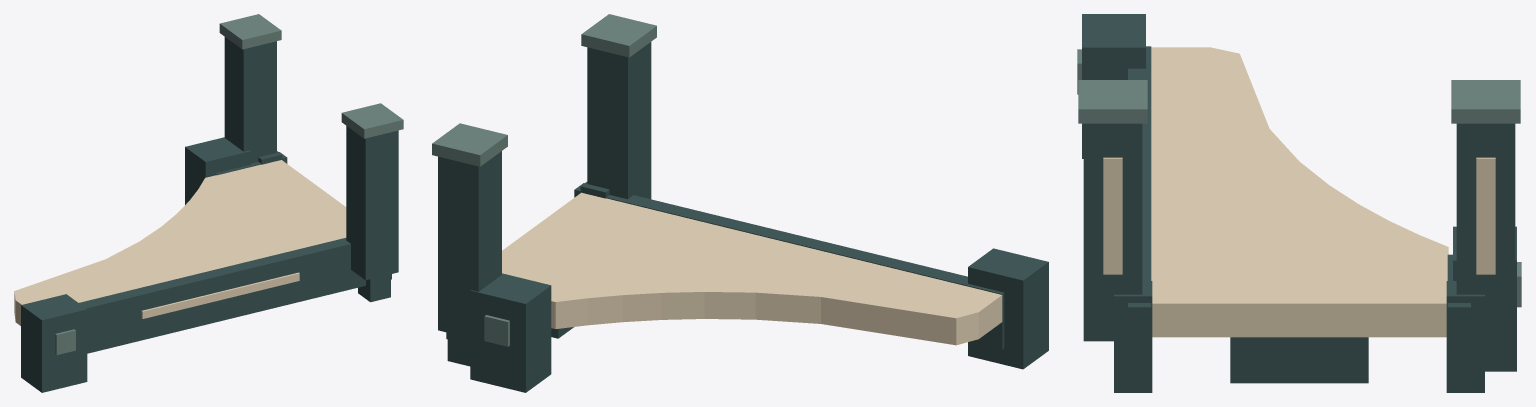
The model's file is Pier_Angled_65_Switch_lab2.glb.
3 renders of one model, left to right at view 1: azimuth 30°, elevation 25°; view 2: azimuth 150°, elevation 25°; view 3: azimuth 270°, elevation 25°, orthographic. The views are drawn at different scales.
Visible parts, largest first — view 1: Pier_Angled_65_Switch; view 2: Pier_Angled_65_Switch; view 3: Pier_Angled_65_Switch.
Part boxes in pixels (x1,y1,x2,y2): Pier_Angled_65_Switch: (14, 14, 403, 392); Pier_Angled_65_Switch: (432, 14, 1048, 392); Pier_Angled_65_Switch: (1077, 14, 1521, 392).
Bounding box in the file's own units: 6.05 × 2.95 × 4.17.
